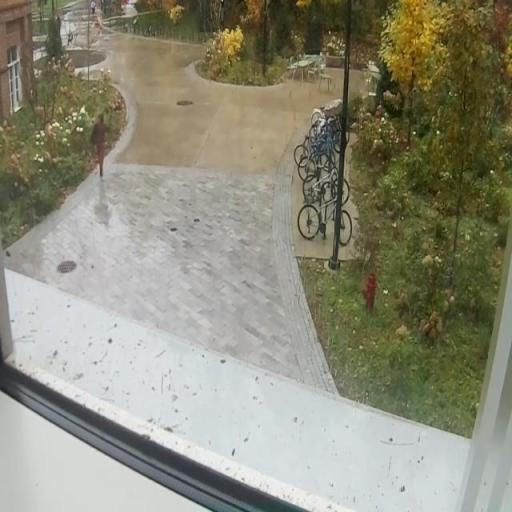pessoa: (91, 115, 111, 179)
